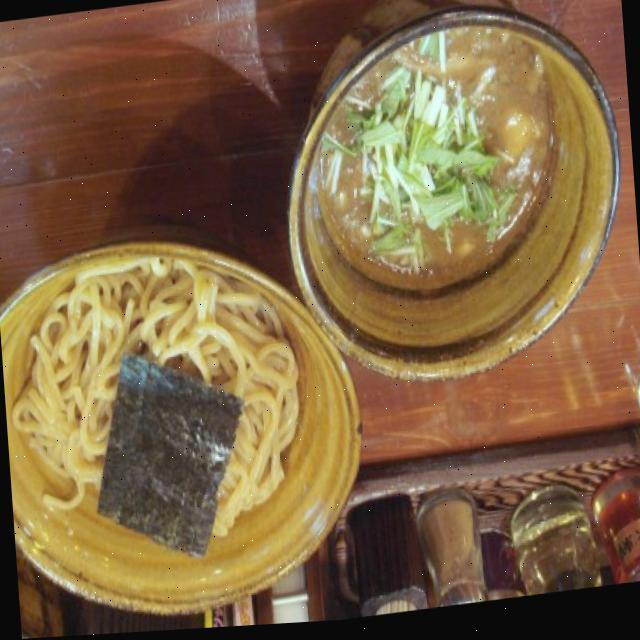面条主食: (0, 5, 605, 576)
